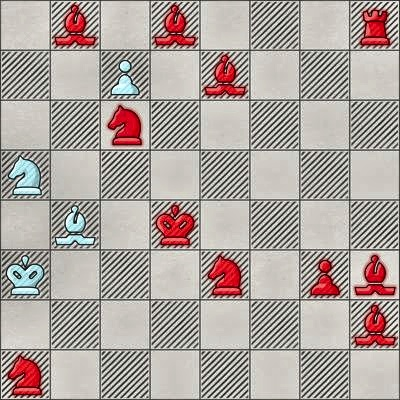black-bishop: (50, 0, 100, 50), (150, 0, 200, 50), (200, 50, 250, 100), (350, 250, 400, 300), (350, 300, 400, 350)
black-king: (150, 200, 200, 250)
black-knight: (100, 100, 150, 150), (200, 250, 250, 300), (0, 350, 50, 400)
black-pawn: (300, 250, 350, 300)
black-rook: (350, 0, 400, 50)
white-bishop: (50, 200, 100, 250)
white-king: (0, 250, 50, 300)
white-knight: (0, 150, 50, 200)
white-pawn: (100, 50, 150, 100)
